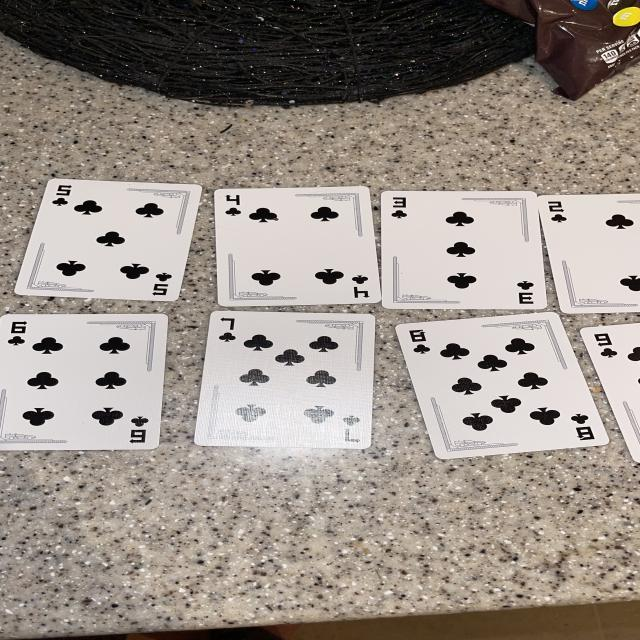2 of clubs: (538, 194, 640, 314)
3 of clubs: (380, 191, 547, 310)
4 of clubs: (213, 186, 382, 306)
5 of clubs: (16, 179, 202, 301)
6 of clubs: (0, 314, 169, 450)
7 of clubs: (193, 311, 376, 449)
8 of clubs: (396, 312, 609, 459)
9 of clubs: (580, 324, 640, 461)
